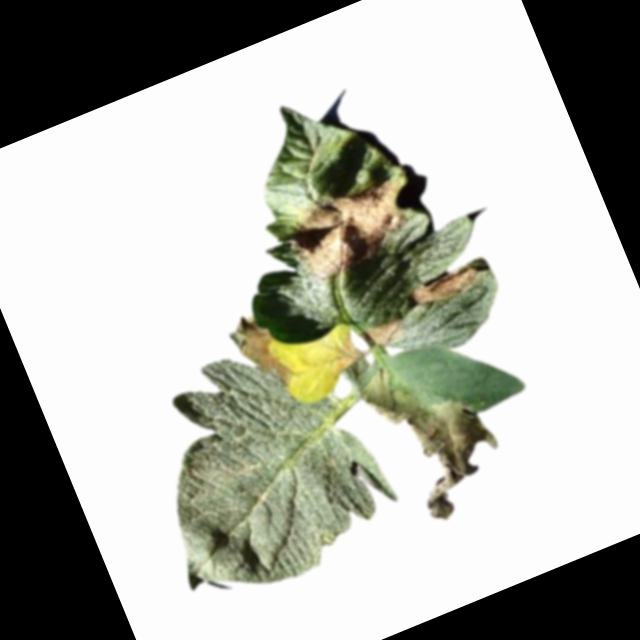Late_blight: (355, 340, 515, 530), (273, 165, 427, 291), (226, 308, 298, 401), (404, 257, 483, 314), (322, 331, 368, 377), (360, 313, 409, 350)
